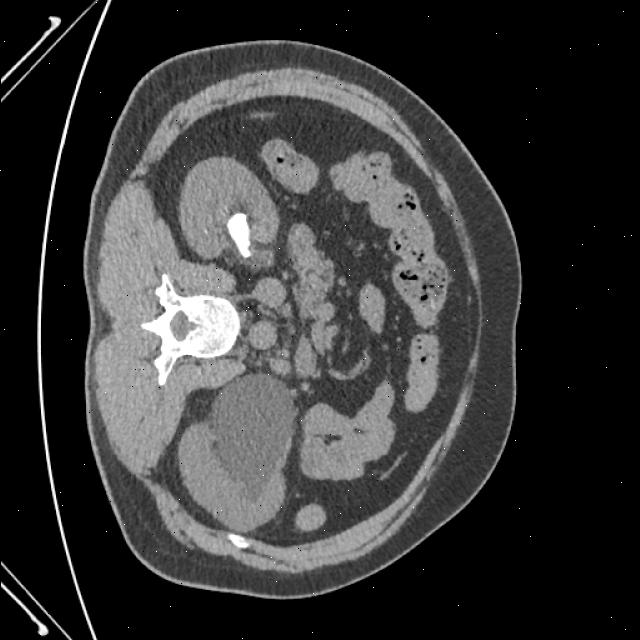kidneystone: (226, 214, 248, 258)
